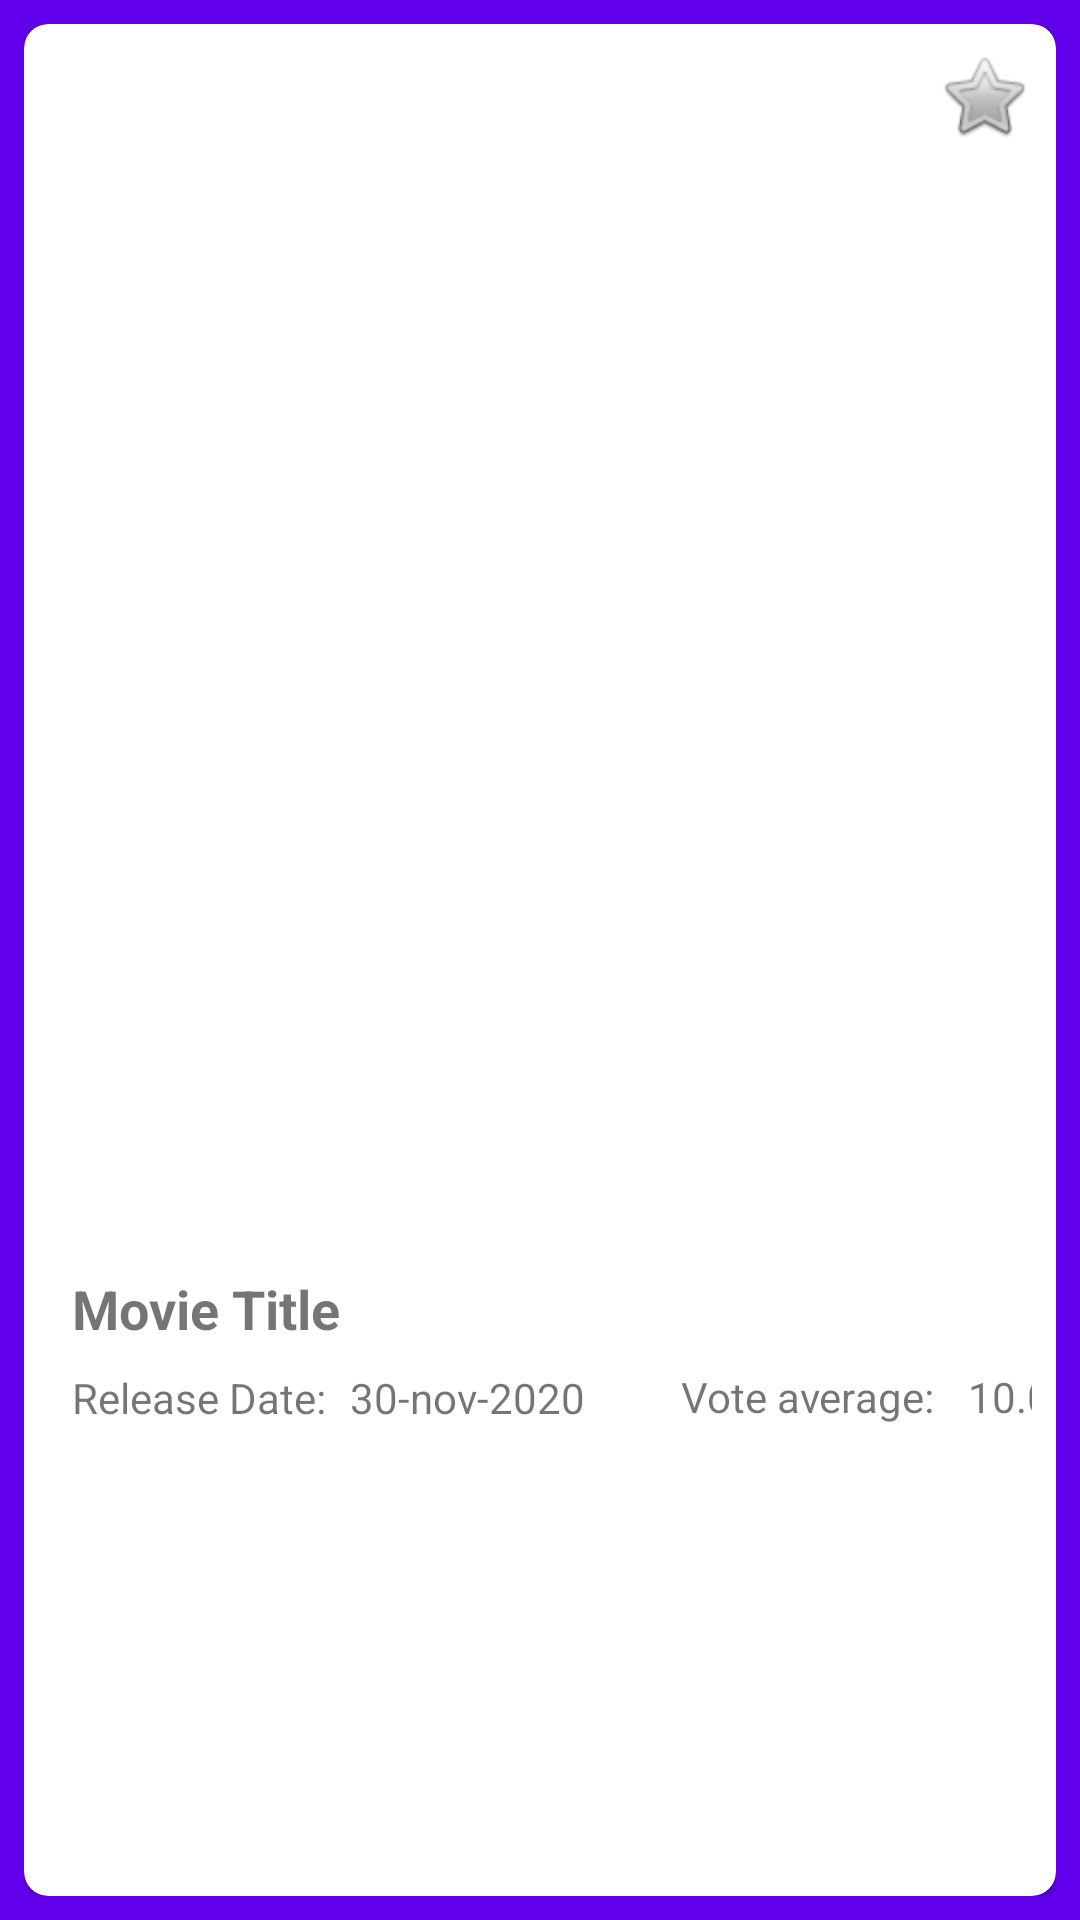

Icons on this 1080*1920 Android screen, each with its box as {"x1": x1, "y1": y1, "x2": x2, "y2": y2}:
star: {"x1": 945, "y1": 58, "x2": 1025, "y2": 136}
